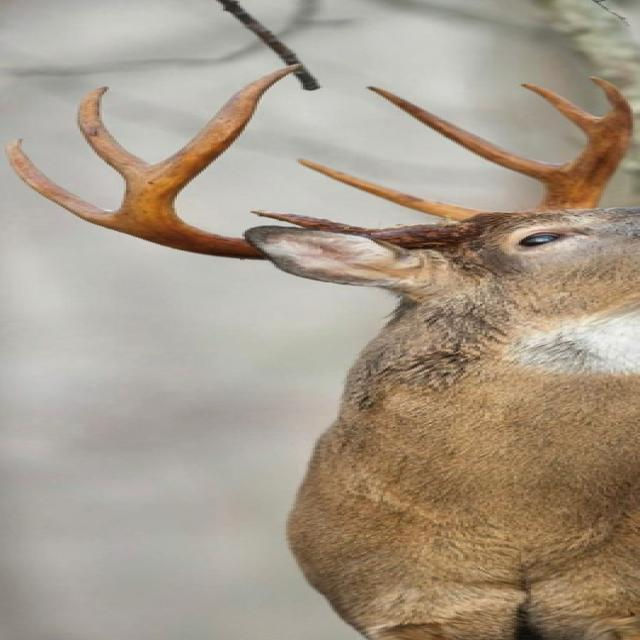L-G3: (366, 85, 569, 185)
L-G4: (518, 83, 604, 142)
R-G1: (248, 210, 365, 229)
R-G2: (5, 138, 113, 230)
R-G3: (75, 86, 151, 177)
